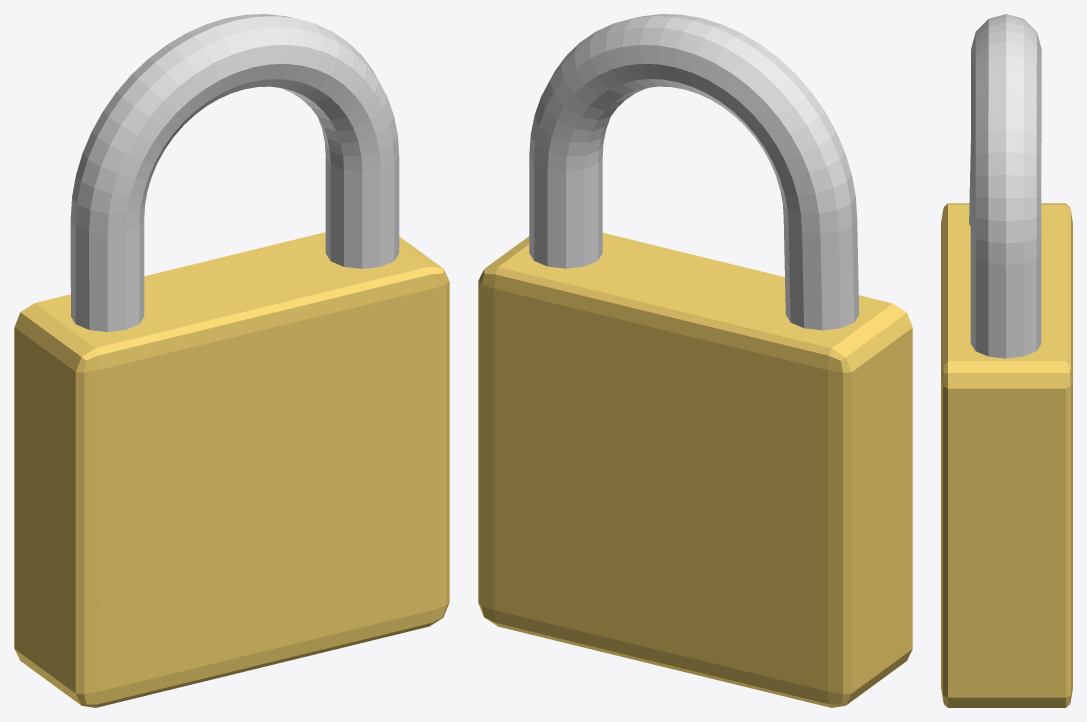
The model's file is happy-lock.glb.
3 renders of one model, left to right at view 1: azimuth 30°, elevation 25°; view 2: azimuth 150°, elevation 25°; view 3: azimuth 270°, elevation 25°, orthographic. The views are drawn at different scales.
Parts seen in each view (by area): view 1: Lock.001; view 2: Lock.001; view 3: Lock.001.
Part boxes in pixels (x1,y1,x2,y2): Lock.001: (14, 14, 449, 707); Lock.001: (478, 14, 912, 707); Lock.001: (941, 14, 1072, 707).
Bounding box in the file's own units: 5.28 × 8.42 × 1.68.
